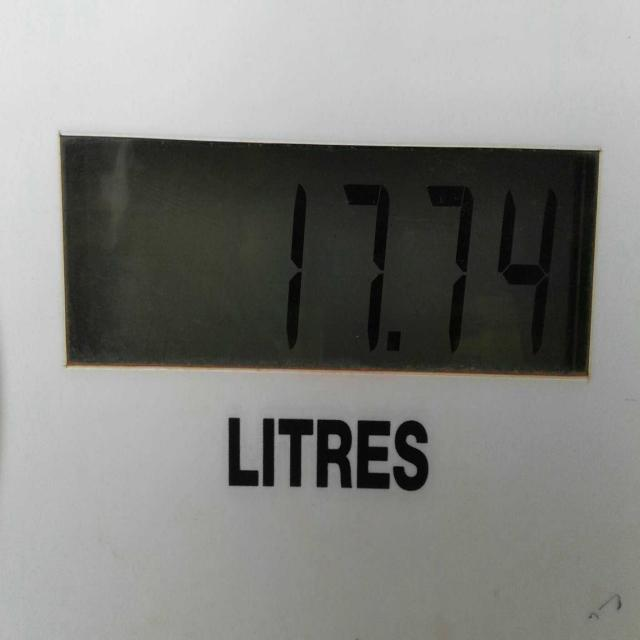.: (383, 326, 411, 359)
1: (280, 182, 313, 346)
4: (492, 185, 560, 364)
7: (420, 180, 481, 358), (334, 174, 390, 356)
screen: (59, 133, 595, 377)
